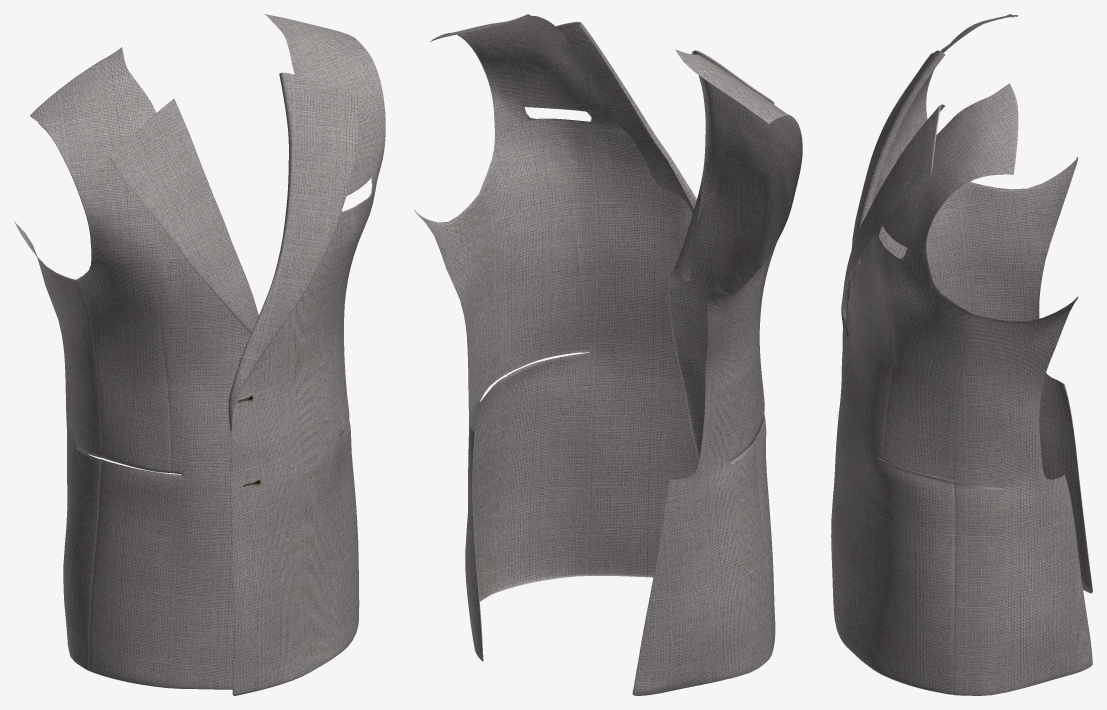
The model's file is noch_double_breasted_wide.glb.
3 renders of one model, left to right at view 1: azimuth 30°, elevation 25°; view 2: azimuth 150°, elevation 25°; view 3: azimuth 270°, elevation 25°, orthographic. The views are drawn at different scales.
Visible parts, largest first — view 1: noch_double_breasted_wide; view 2: noch_double_breasted_wide; view 3: noch_double_breasted_wide.
Part boxes in pixels (x1,y1,x2,y2): noch_double_breasted_wide: (14, 14, 385, 695); noch_double_breasted_wide: (414, 14, 802, 695); noch_double_breasted_wide: (831, 14, 1092, 695).
Bounding box in the file's own units: 0.0585 × 0.1017 × 0.0414.
2 materials, 2 textured.
